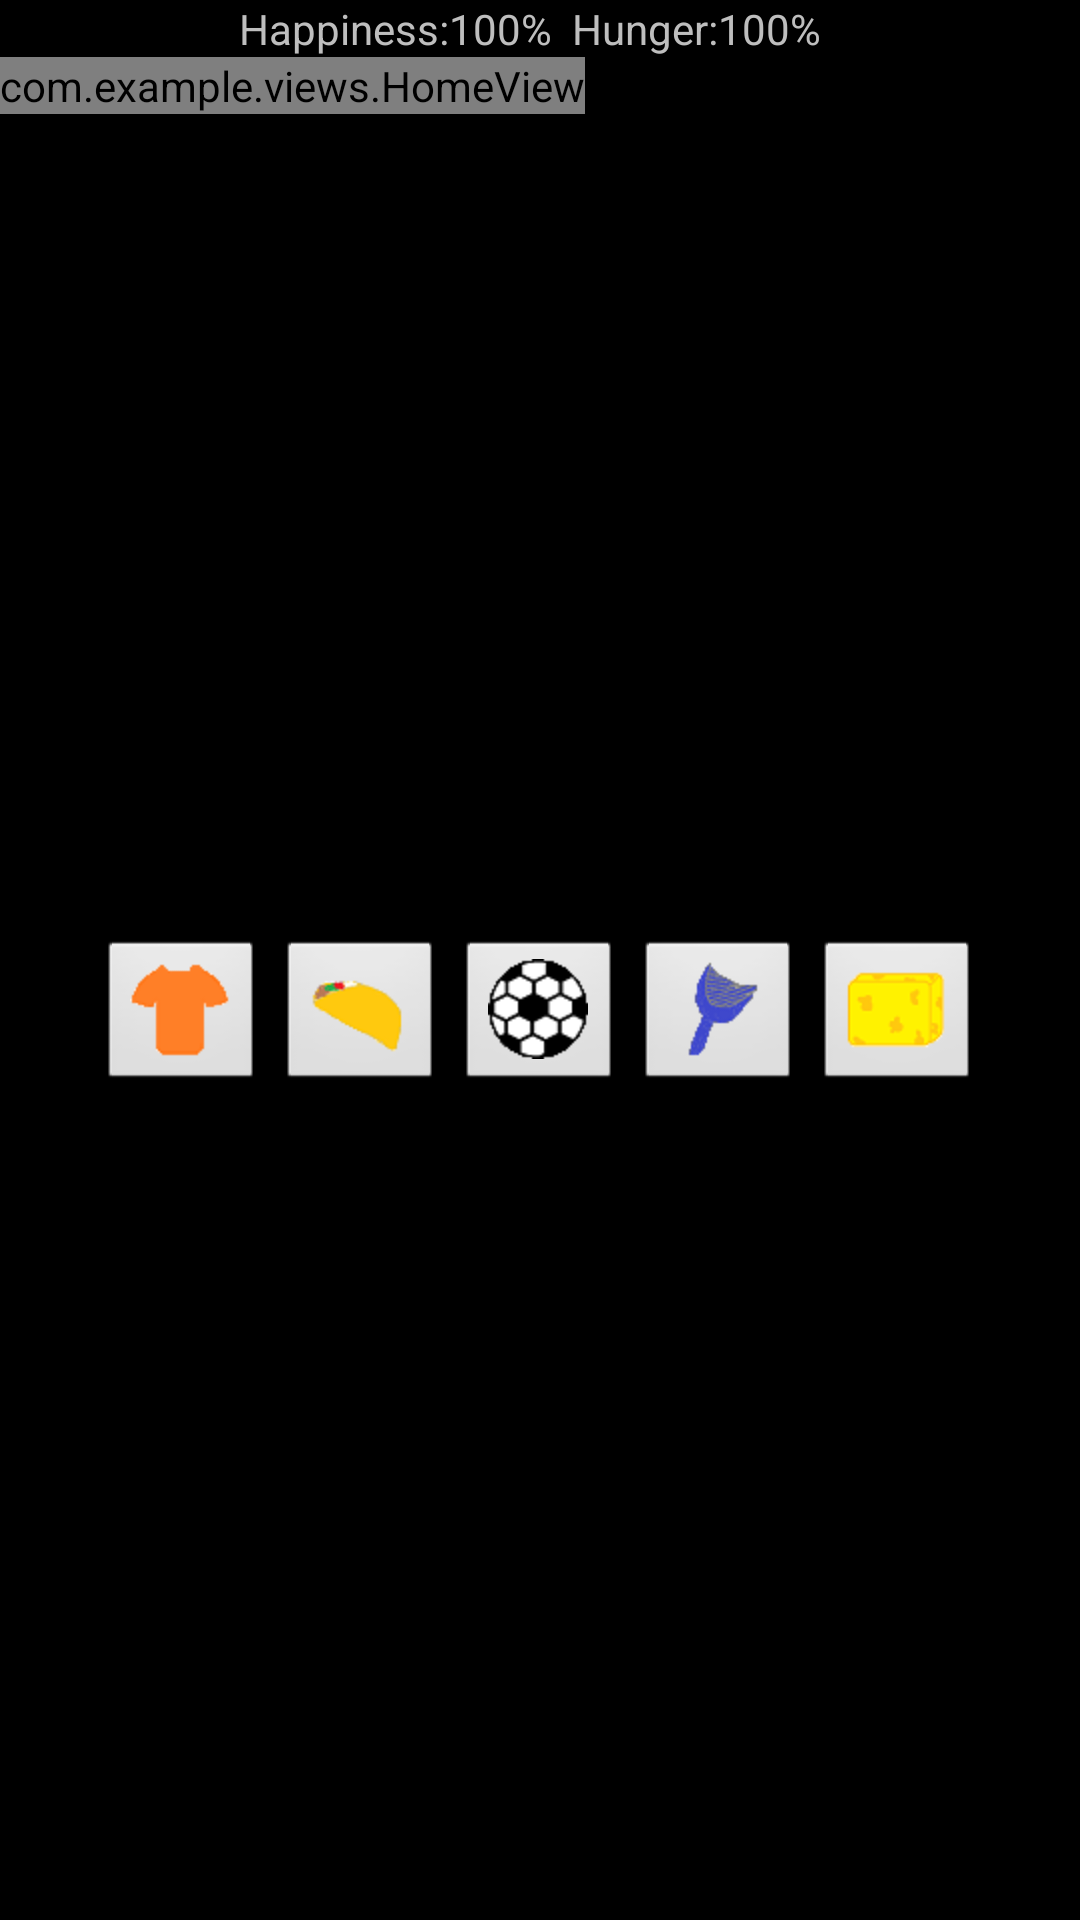

Named icons in this screenshot (1080×1920) and their centers, (x=x, y=y):
Feed: (x=359, y=1009)
Play: (x=538, y=1009)
Shirt: (x=180, y=1009)
Sponge: (x=896, y=1009)
